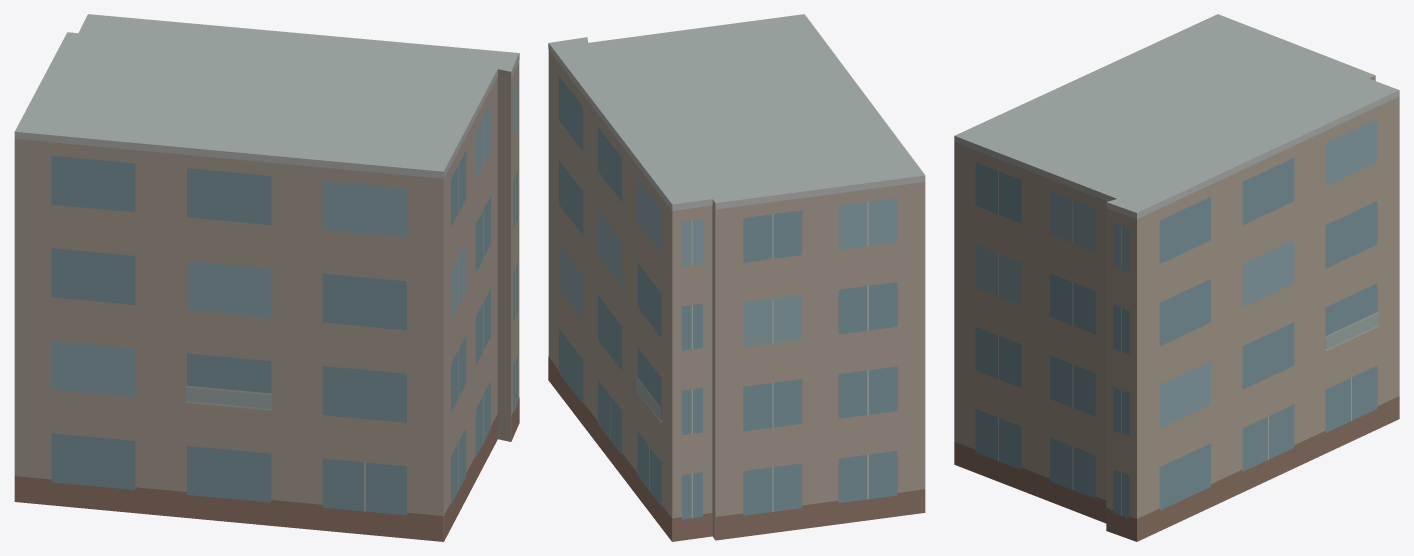
File: survey-upis-33018538.glb
The picture shows the model from 3 angles, left to right: view 1: azimuth 30°, elevation 25°; view 2: azimuth 150°, elevation 25°; view 3: azimuth 270°, elevation 25°; orthographic projection. The views are drawn at different scales.
Parts seen in each view (by area): view 1: survey-upis-33018538.tmp; view 2: survey-upis-33018538.tmp; view 3: survey-upis-33018538.tmp.
Boxes of the visible parts, bbox=[...] form: survey-upis-33018538.tmp: bbox=[14, 14, 519, 541]; survey-upis-33018538.tmp: bbox=[548, 14, 925, 541]; survey-upis-33018538.tmp: bbox=[954, 14, 1399, 541].
Size of the model in its own units: 16.62 by 12.8 by 15.71.
